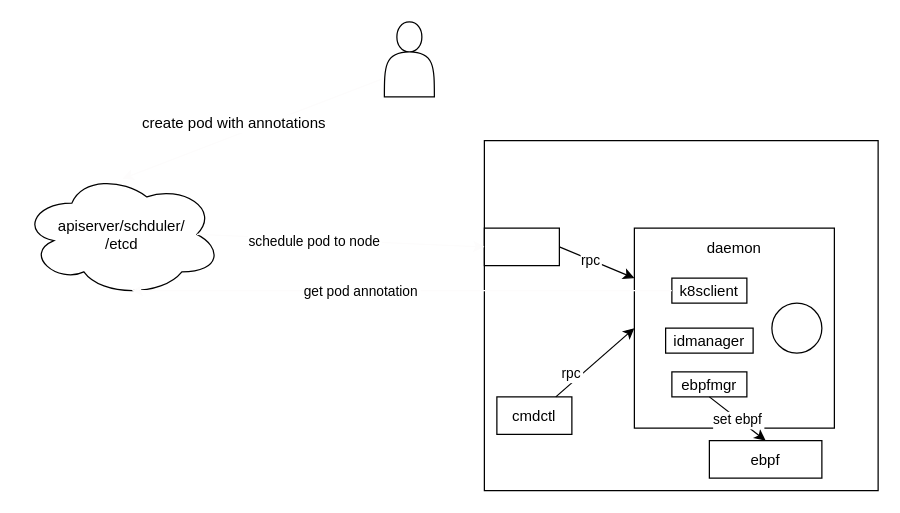
Some shapes in this 900 by 513 pixel diagram are drawn without their labels. The shapes that lost their labels are listed below. From the top down, each one's box as (x1, y1, x2, y2) in pixels, then its label:
(383, 21, 434, 97): user
(483, 227, 559, 266): cni
(483, 139, 878, 491): node
(771, 302, 822, 353): gc
